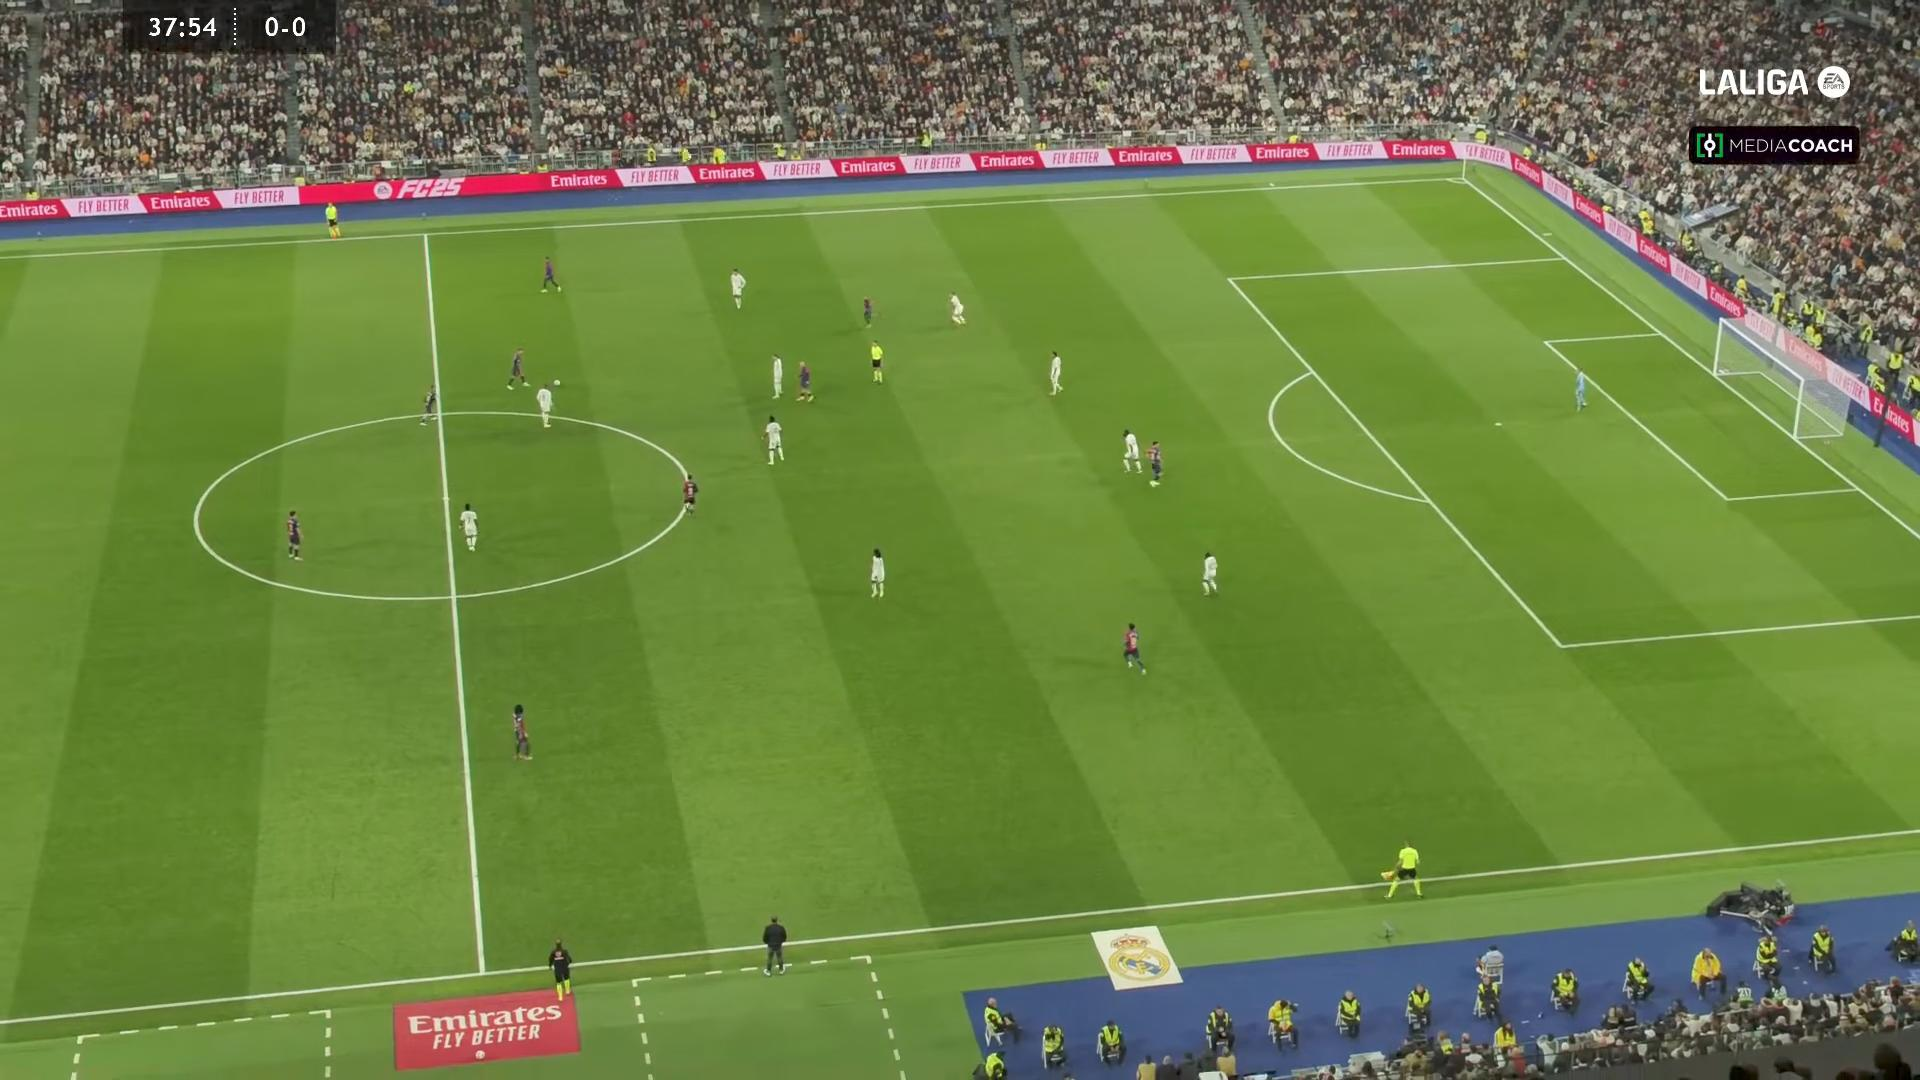ball: (554, 379, 560, 386)
goalkeeper: (1572, 368, 1587, 412)
player: (1121, 622, 1146, 675), (510, 703, 532, 760), (762, 414, 783, 466), (457, 502, 478, 552), (284, 509, 303, 561), (868, 547, 886, 599), (506, 347, 528, 389), (1121, 429, 1141, 473), (794, 359, 814, 402), (535, 383, 554, 428), (539, 255, 561, 293), (1200, 551, 1218, 596), (1146, 440, 1163, 486), (1047, 349, 1063, 396), (729, 267, 746, 310), (680, 474, 697, 516), (421, 385, 438, 427), (947, 291, 966, 325), (771, 353, 784, 401), (862, 296, 879, 330)
referee: (1380, 841, 1423, 899), (548, 938, 572, 1000), (868, 340, 884, 384), (323, 200, 340, 238)
staff: (762, 915, 788, 976)
